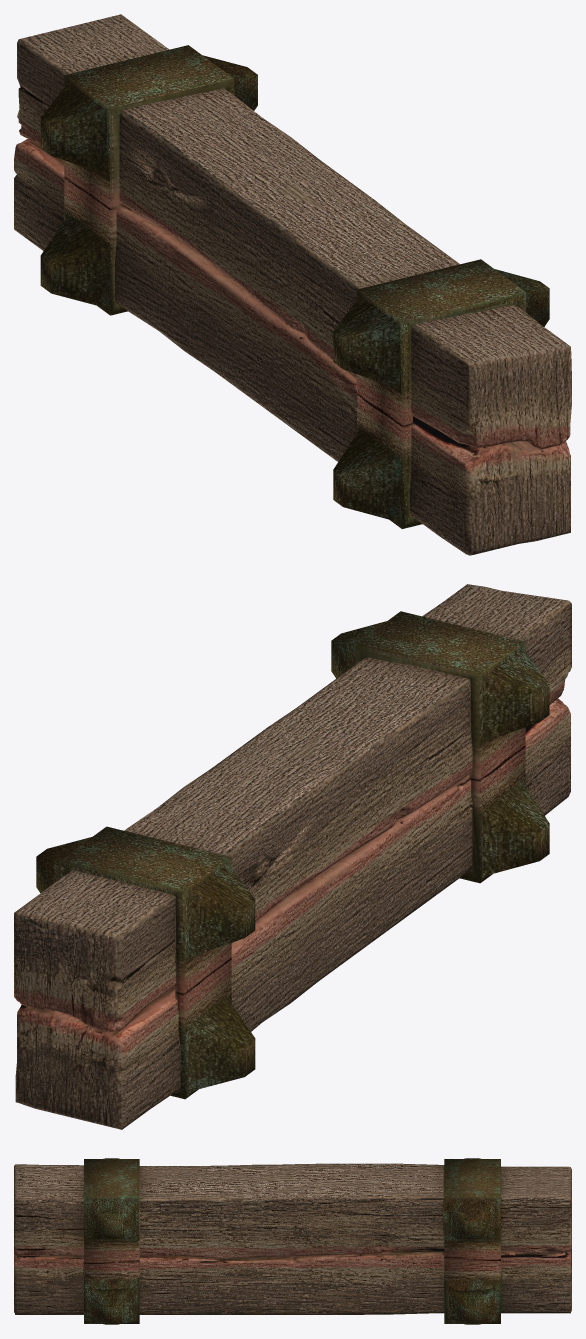
Rendered from tripo_convert_eacf7fcc-9c24-4280-862b-ea086a6af699.fbx.
The picture shows the model from 3 angles, top to bottom: view 1: azimuth 30°, elevation 25°; view 2: azimuth 150°, elevation 25°; view 3: azimuth 270°, elevation 25°; orthographic projection. The views are drawn at different scales.
Visible parts, largest first — view 1: tripo_node_eacf7fcc; view 2: tripo_node_eacf7fcc; view 3: tripo_node_eacf7fcc.
Part boxes in pixels (x1,y1,x2,y2): tripo_node_eacf7fcc: [14, 14, 571, 555]; tripo_node_eacf7fcc: [14, 584, 571, 1129]; tripo_node_eacf7fcc: [14, 1158, 571, 1324].
Size of the model in its own units: 0.2637 by 0.252 by 0.998.
1 material, 1 textured.
